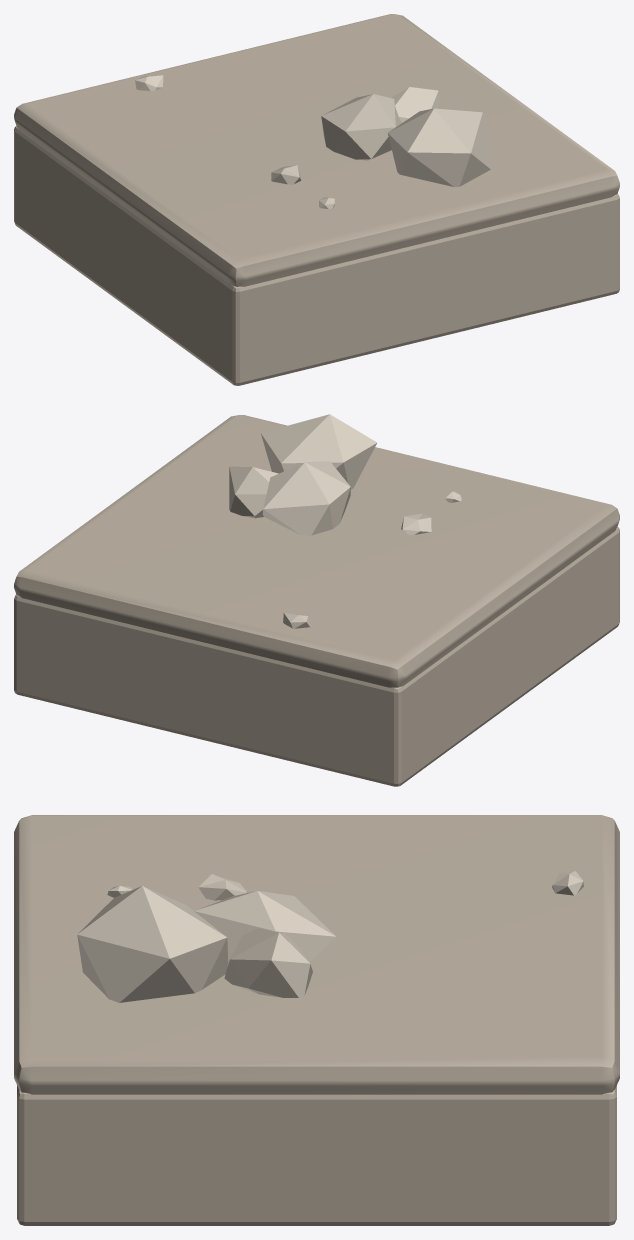
Rendered from tile_stone_clearing.glb.
3 views of the same model, one above another, from view 1: azimuth 30°, elevation 25°; view 2: azimuth 150°, elevation 25°; view 3: azimuth 270°, elevation 25° (orthographic). The views are drawn at different scales.
Parts seen in each view (by area): view 1: sc_cap, sc_body, sc_r0, sc_r1, sc_r2; view 2: sc_cap, sc_body, sc_r1, sc_r0, sc_r2, scp_peb0; view 3: sc_cap, sc_body, sc_r0, sc_r1, sc_r2, scp_peb0, scp_peb3.
Part boxes in pixels (bbox=[...]): sc_cap: bbox=[14, 14, 619, 286]; sc_body: bbox=[14, 126, 619, 385]; sc_r0: bbox=[388, 108, 492, 186]; sc_r1: bbox=[321, 94, 401, 160]; sc_r2: bbox=[391, 87, 438, 122]; sc_cap: bbox=[14, 415, 619, 687]; sc_body: bbox=[14, 527, 619, 786]; sc_r1: bbox=[262, 461, 350, 535]; sc_r0: bbox=[261, 414, 377, 489]; sc_r2: bbox=[229, 466, 278, 518]; scp_peb0: bbox=[401, 513, 431, 534]; sc_cap: bbox=[14, 815, 619, 1094]; sc_body: bbox=[17, 1085, 616, 1225]; sc_r0: bbox=[77, 886, 228, 1002]; sc_r1: bbox=[194, 891, 336, 965]; sc_r2: bbox=[224, 928, 312, 997]; scp_peb0: bbox=[198, 874, 247, 900]; scp_peb3: bbox=[552, 871, 583, 895].
Size of the model in its own units: 2.02 by 0.921 by 2.02.
